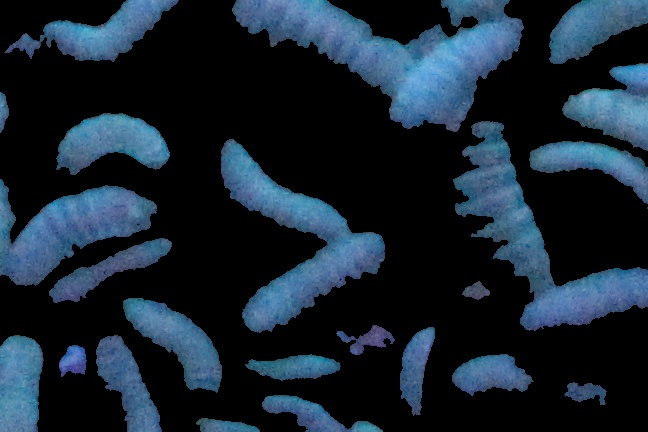larvae: (226, 1, 411, 98), (451, 123, 552, 291), (11, 188, 161, 296), (238, 236, 400, 331), (214, 136, 355, 240), (121, 296, 235, 408), (35, 1, 190, 76), (406, 18, 514, 123), (514, 262, 648, 339), (47, 243, 181, 313), (49, 117, 175, 186), (96, 337, 167, 432), (533, 140, 648, 192), (3, 328, 57, 432), (549, 1, 648, 57), (558, 85, 648, 142), (451, 344, 534, 396), (243, 353, 351, 388), (401, 321, 433, 420), (594, 53, 648, 99)
